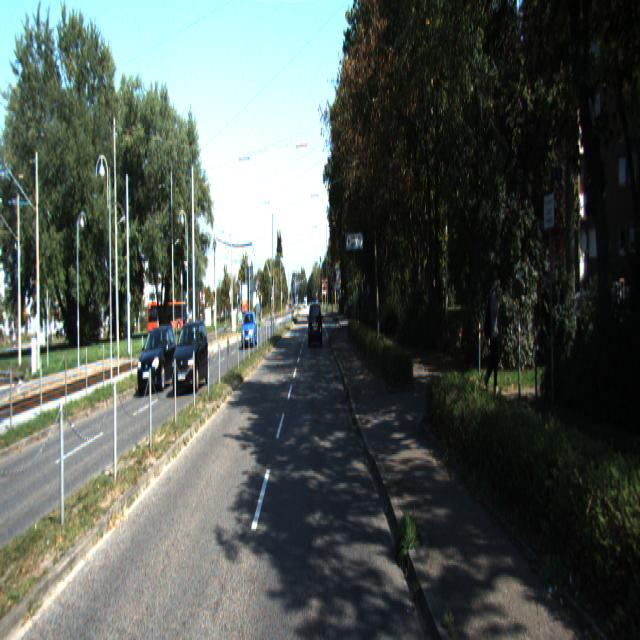Car: (138, 324, 179, 394), (172, 318, 210, 392), (309, 301, 323, 348), (242, 312, 257, 349)
